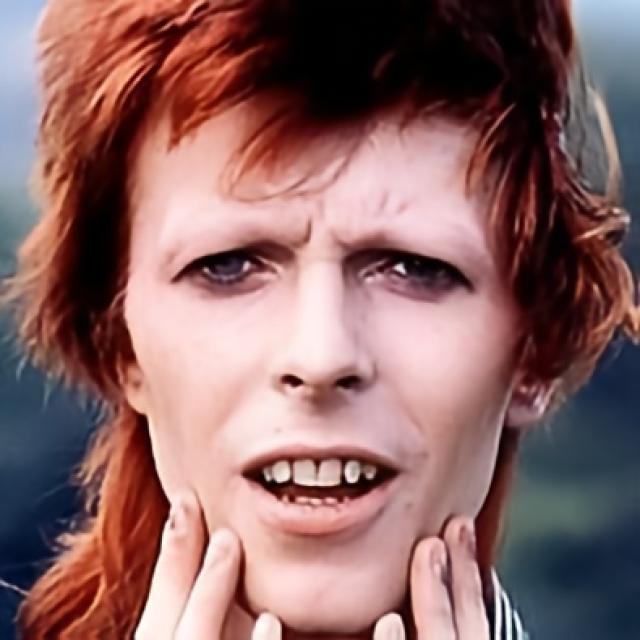disgust: (124, 70, 519, 634)
